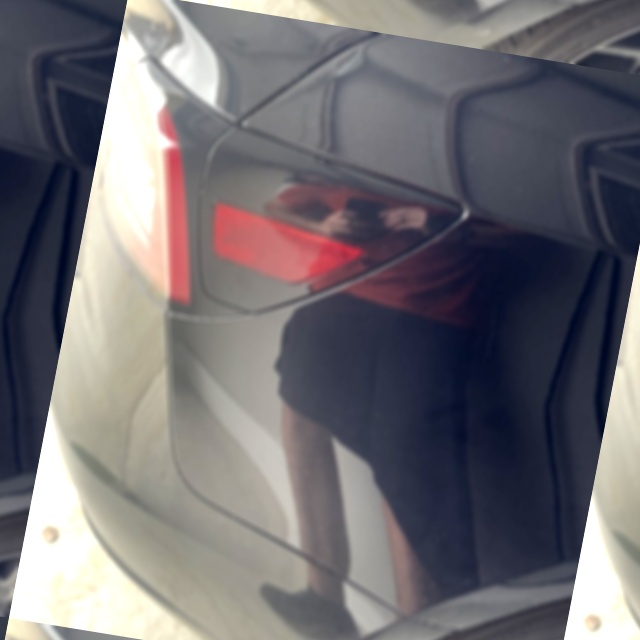reflector: (199, 199, 370, 294)
